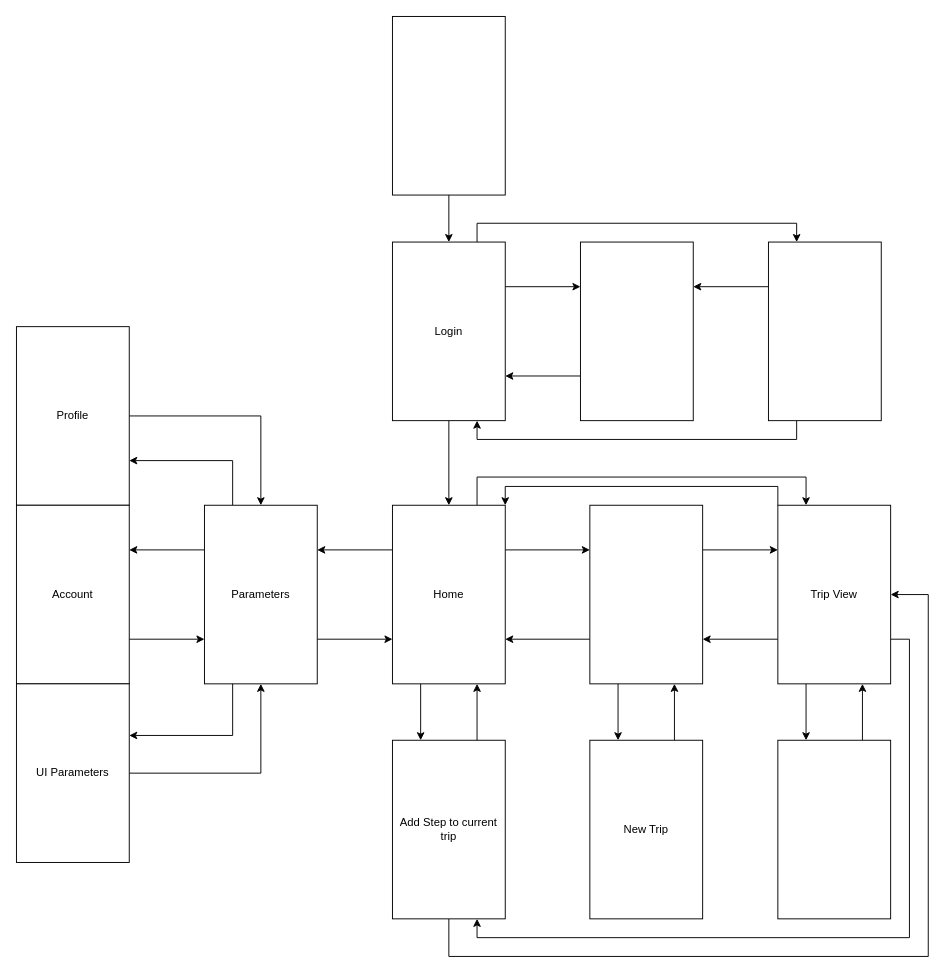
This 952x980 diagram has some shape labels left out. Here are the shapes that lost their labels. From the top down, the centre of each, then its label:
At pixel 448 105: "Loading Page".
At pixel 636 331: "Password".
At pixel 824 331: "Register".
At pixel 646 594: "Trip Gallery".
At pixel 834 829: "Modify step".
